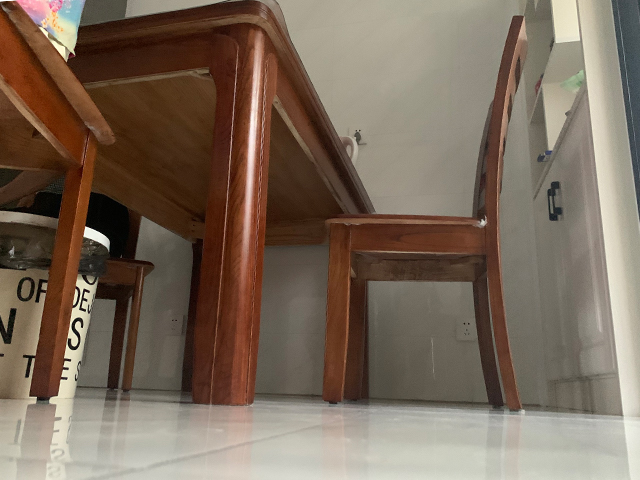cabinet: (517, 1, 640, 419)
stool: (317, 12, 532, 413)
table: (65, 1, 376, 408)
trashcan: (1, 209, 111, 400)
